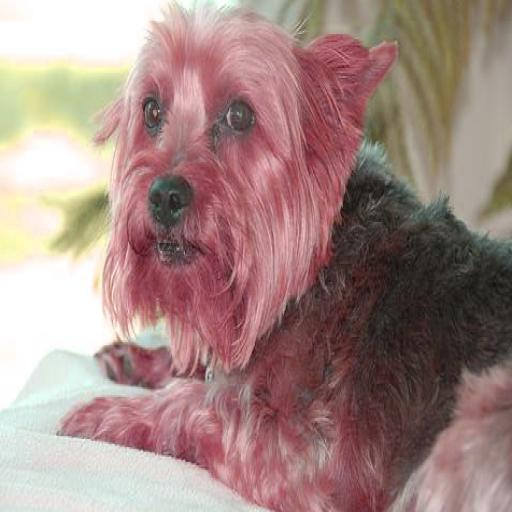dog_face: (98, 6, 375, 312)
